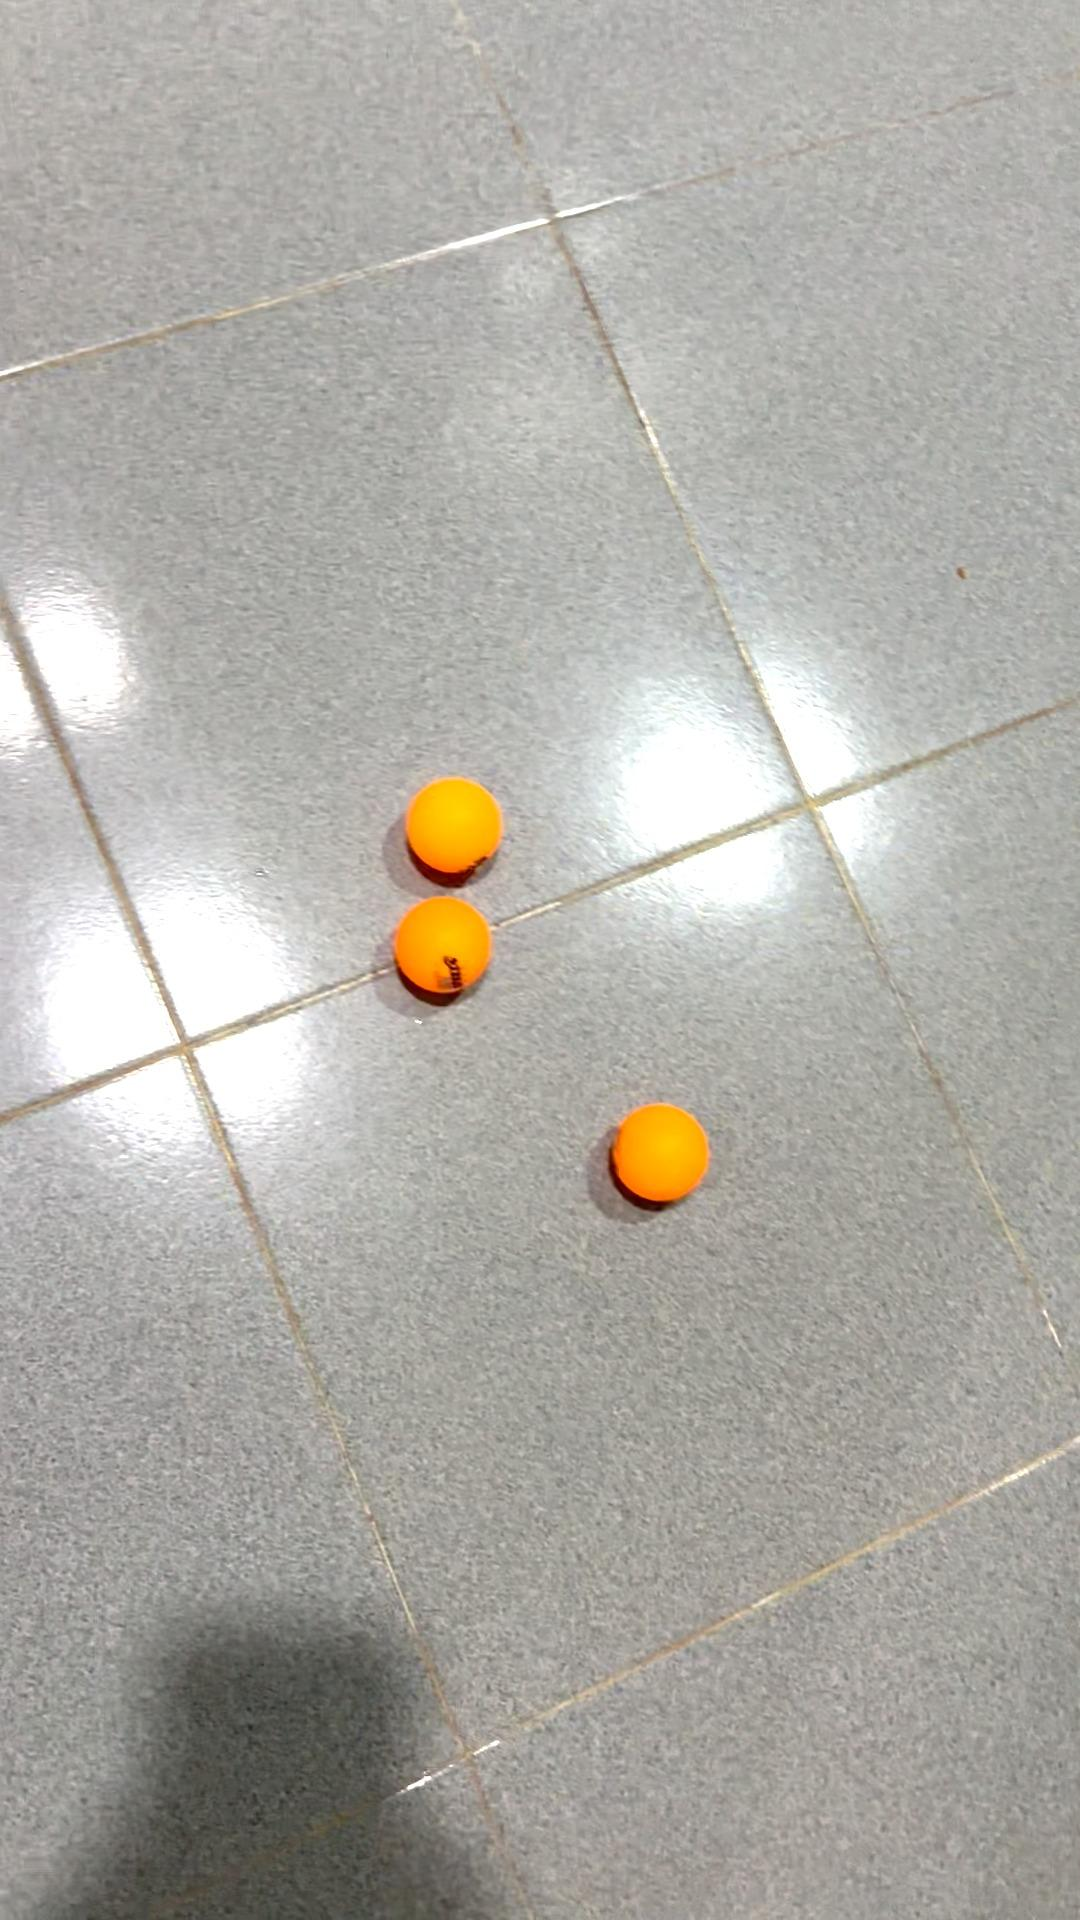oball: (601, 1091, 721, 1217), (394, 775, 510, 882), (388, 901, 500, 1006)
